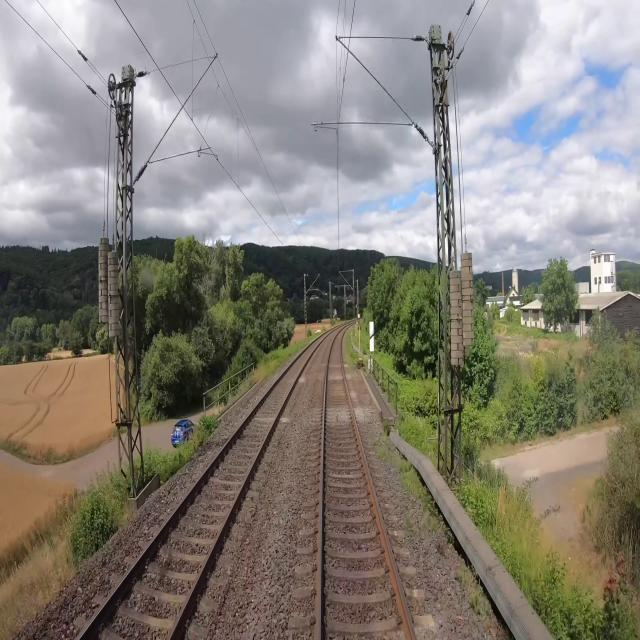Plant: (374, 443, 440, 543), (456, 564, 489, 624), (345, 329, 358, 369)
